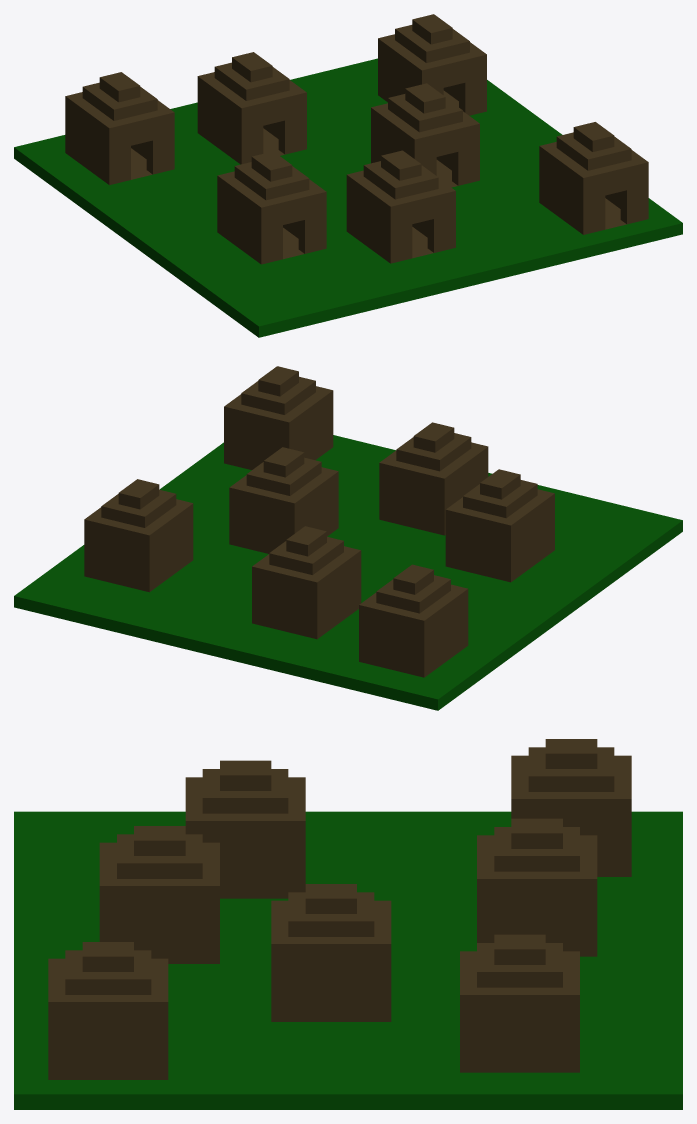
The model's file is village.obj.
3 views of the same model, one above another, from view 1: azimuth 30°, elevation 25°; view 2: azimuth 150°, elevation 25°; view 3: azimuth 270°, elevation 25° (orthographic). The views are drawn at different scales.
Bounding box in the file's own units: 3.9 × 0.8 × 3.9.
Materials: 1 (1 with a texture image).
